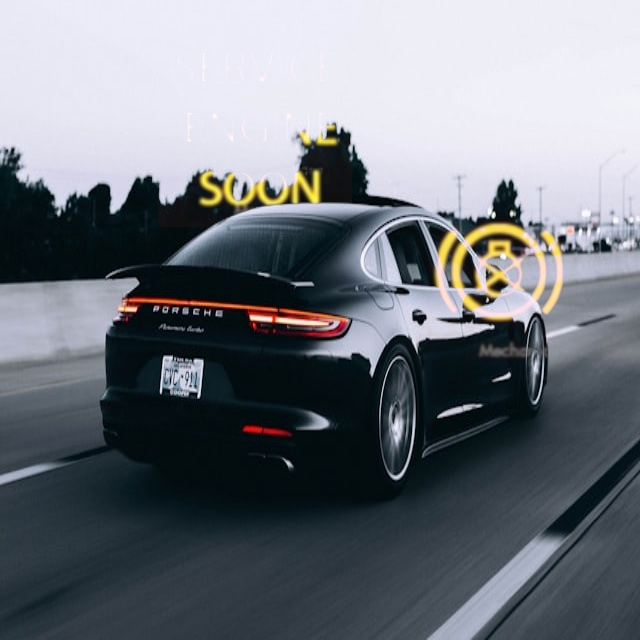symbol: (158, 33, 352, 227), (407, 181, 592, 366), (155, 9, 330, 184)
